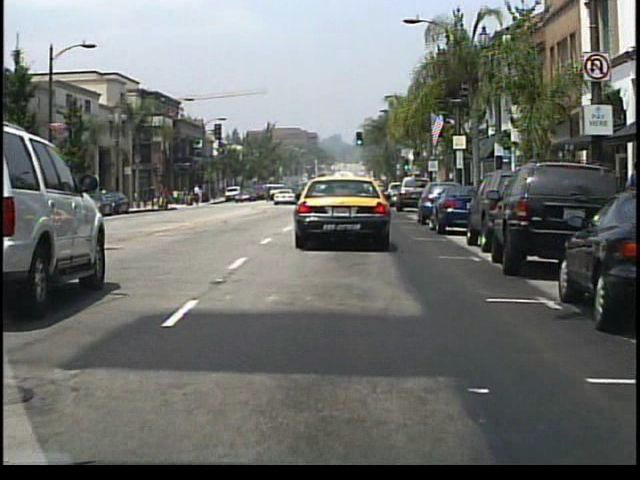person: (195, 191, 203, 206)
